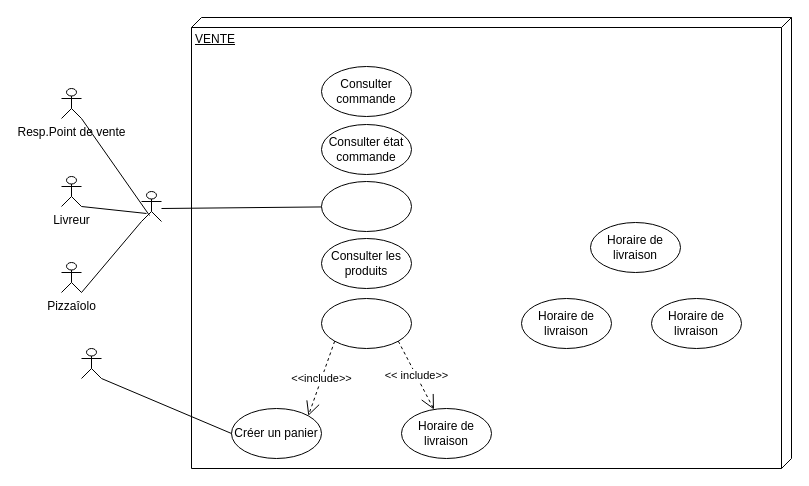
Some shapes in this 809 by 486 pixel diagram are drawn without their labels. Here are the shapes that lost their labels. From the top down, the centre of each, then its label:
At point 151,206: "Employé".
At point 366,206: "Modifier commande".
At point 366,323: "Passer commande".
At point 91,363: "Client".
